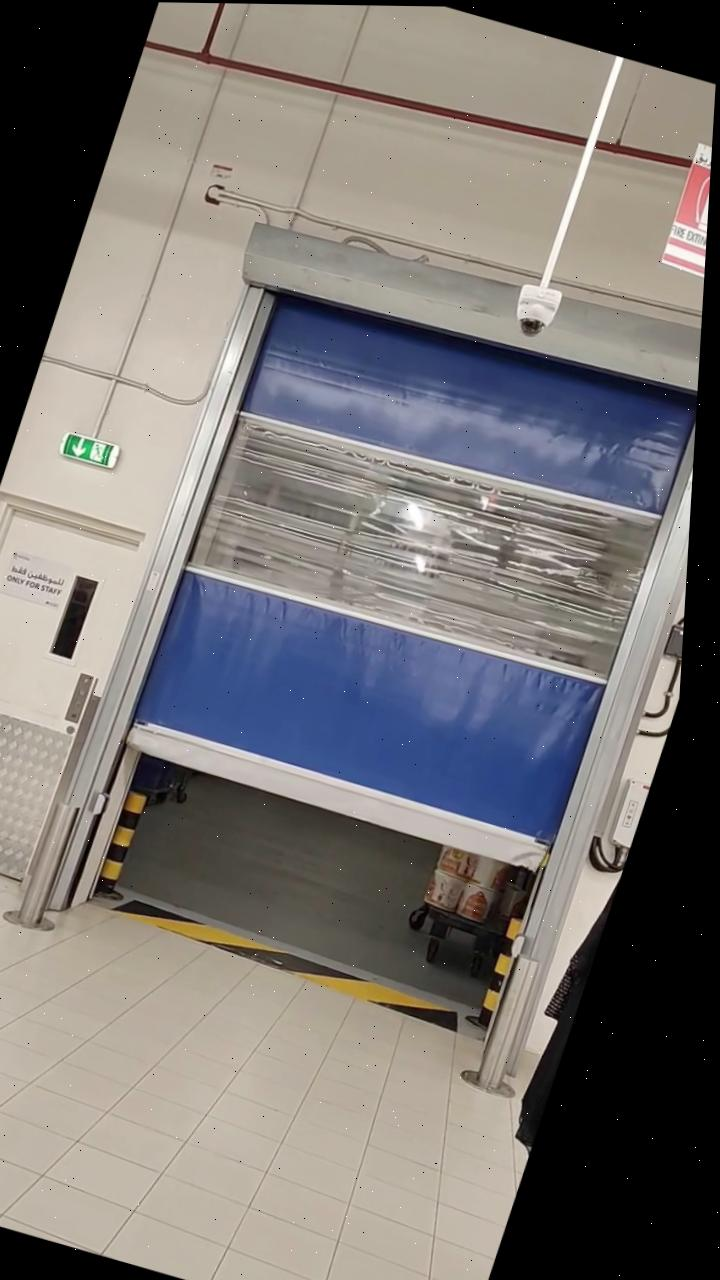Strip: (125, 889, 494, 1042)
